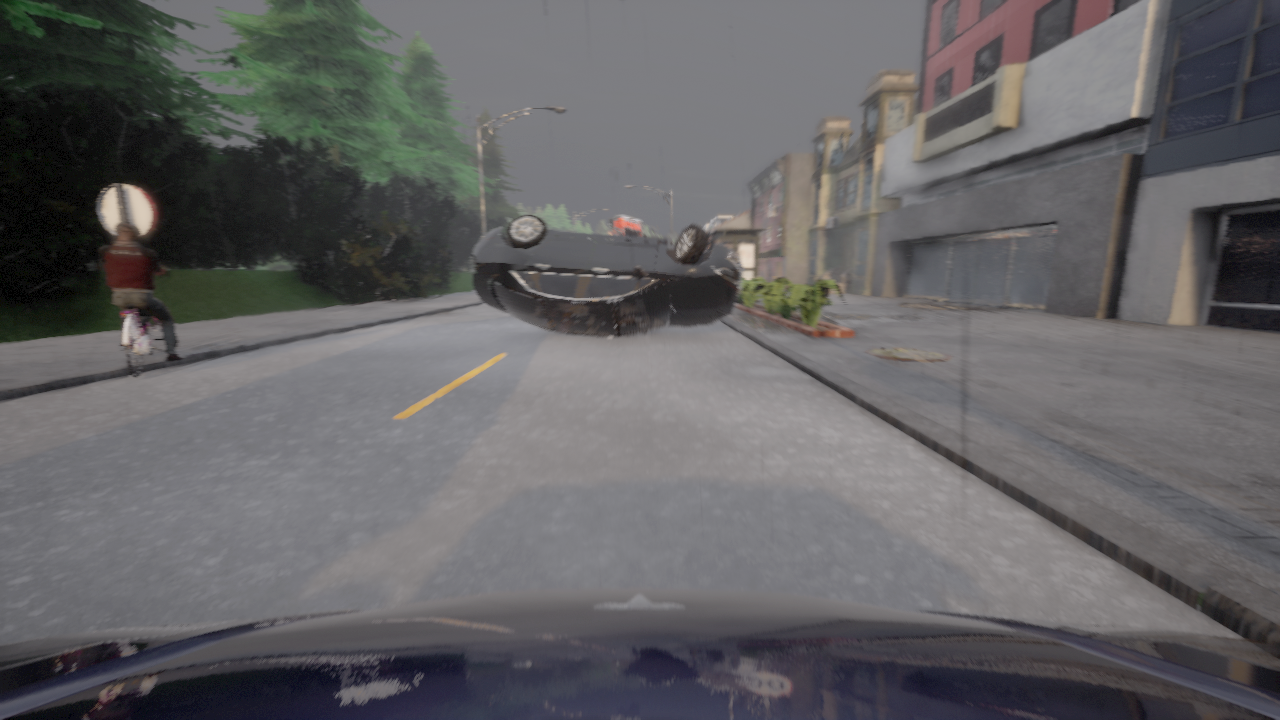cyclist: (0, 588, 1279, 719), (471, 214, 742, 337), (120, 272, 178, 377), (606, 214, 646, 236)
